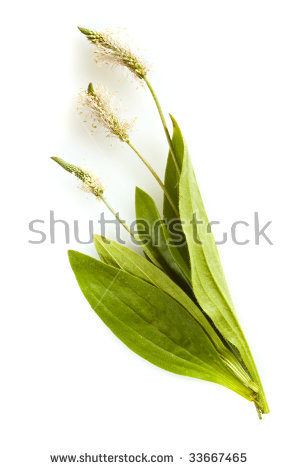buckhorn plantain: (38, 18, 281, 386)
